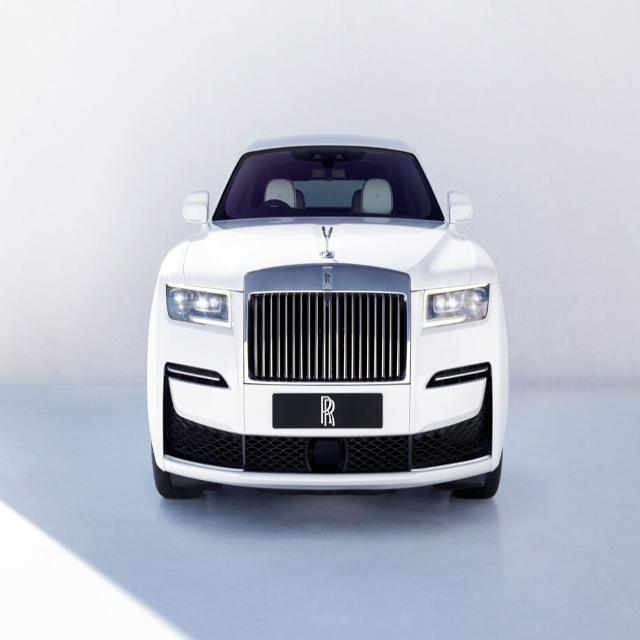Car: (146, 136, 515, 509)
